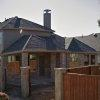Chimney: (39, 4, 55, 37)
